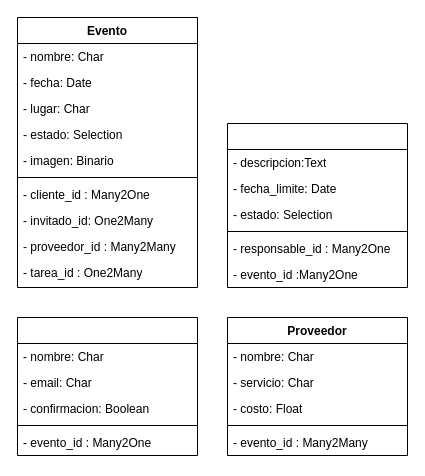
The diagram is 425 pixels wide and 476 high, and some of its shapes have lost their labels. The box of each missing label's shape, as (x1, y1, x2, y2) in pixels:
Invitado: (16, 316, 198, 456)
Tarea: (226, 122, 408, 288)
